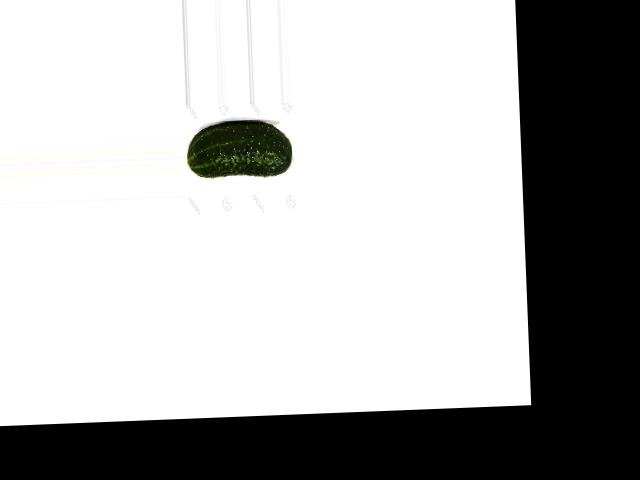cucumber: (186, 118, 293, 178)
